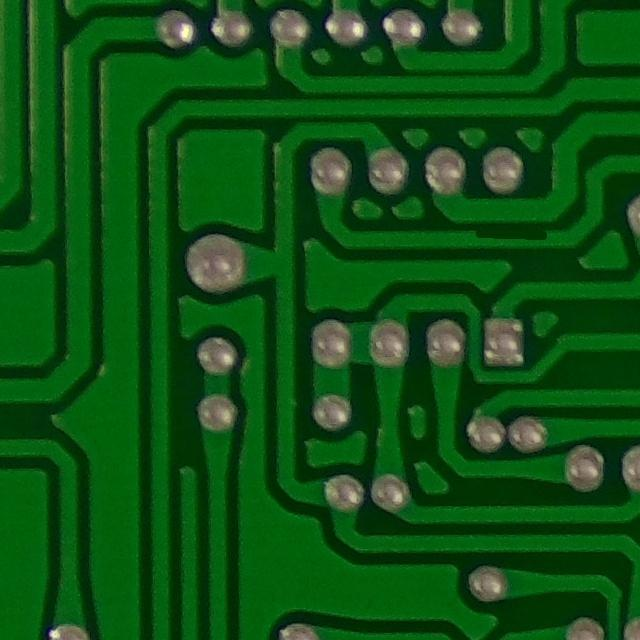mouse_bite: (463, 223, 557, 249)
